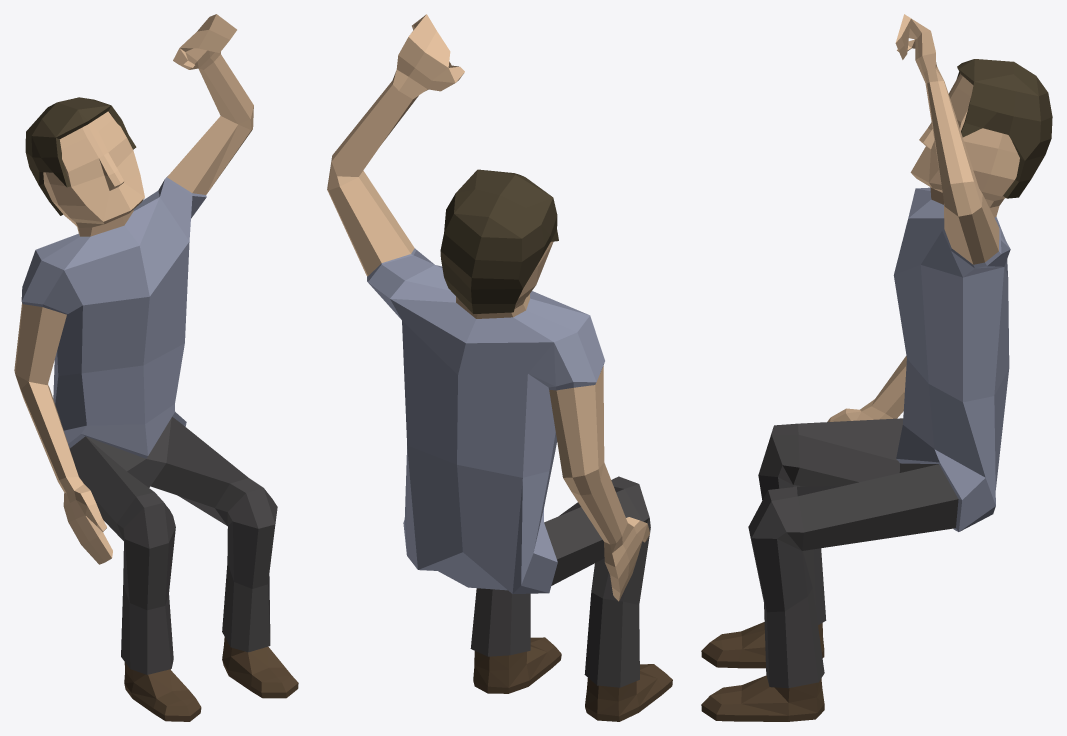
Rendered from Male_Sitting_Cheering.glb.
3 views of the same model, side by side, from view 1: azimuth 30°, elevation 25°; view 2: azimuth 150°, elevation 25°; view 3: azimuth 270°, elevation 25° (orthographic). The views are drawn at different scales.
Parts seen in each view (by area): view 1: Male_Sitting_Cheering; view 2: Male_Sitting_Cheering; view 3: Male_Sitting_Cheering.
Boxes of the visible parts, x1=… form: Male_Sitting_Cheering: x1=14, y1=14, x2=298, y2=721; Male_Sitting_Cheering: x1=327, y1=14, x2=672, y2=721; Male_Sitting_Cheering: x1=701, y1=14, x2=1052, y2=721.
Size of the model in its own units: 0.672 by 1.68 by 0.7538.
